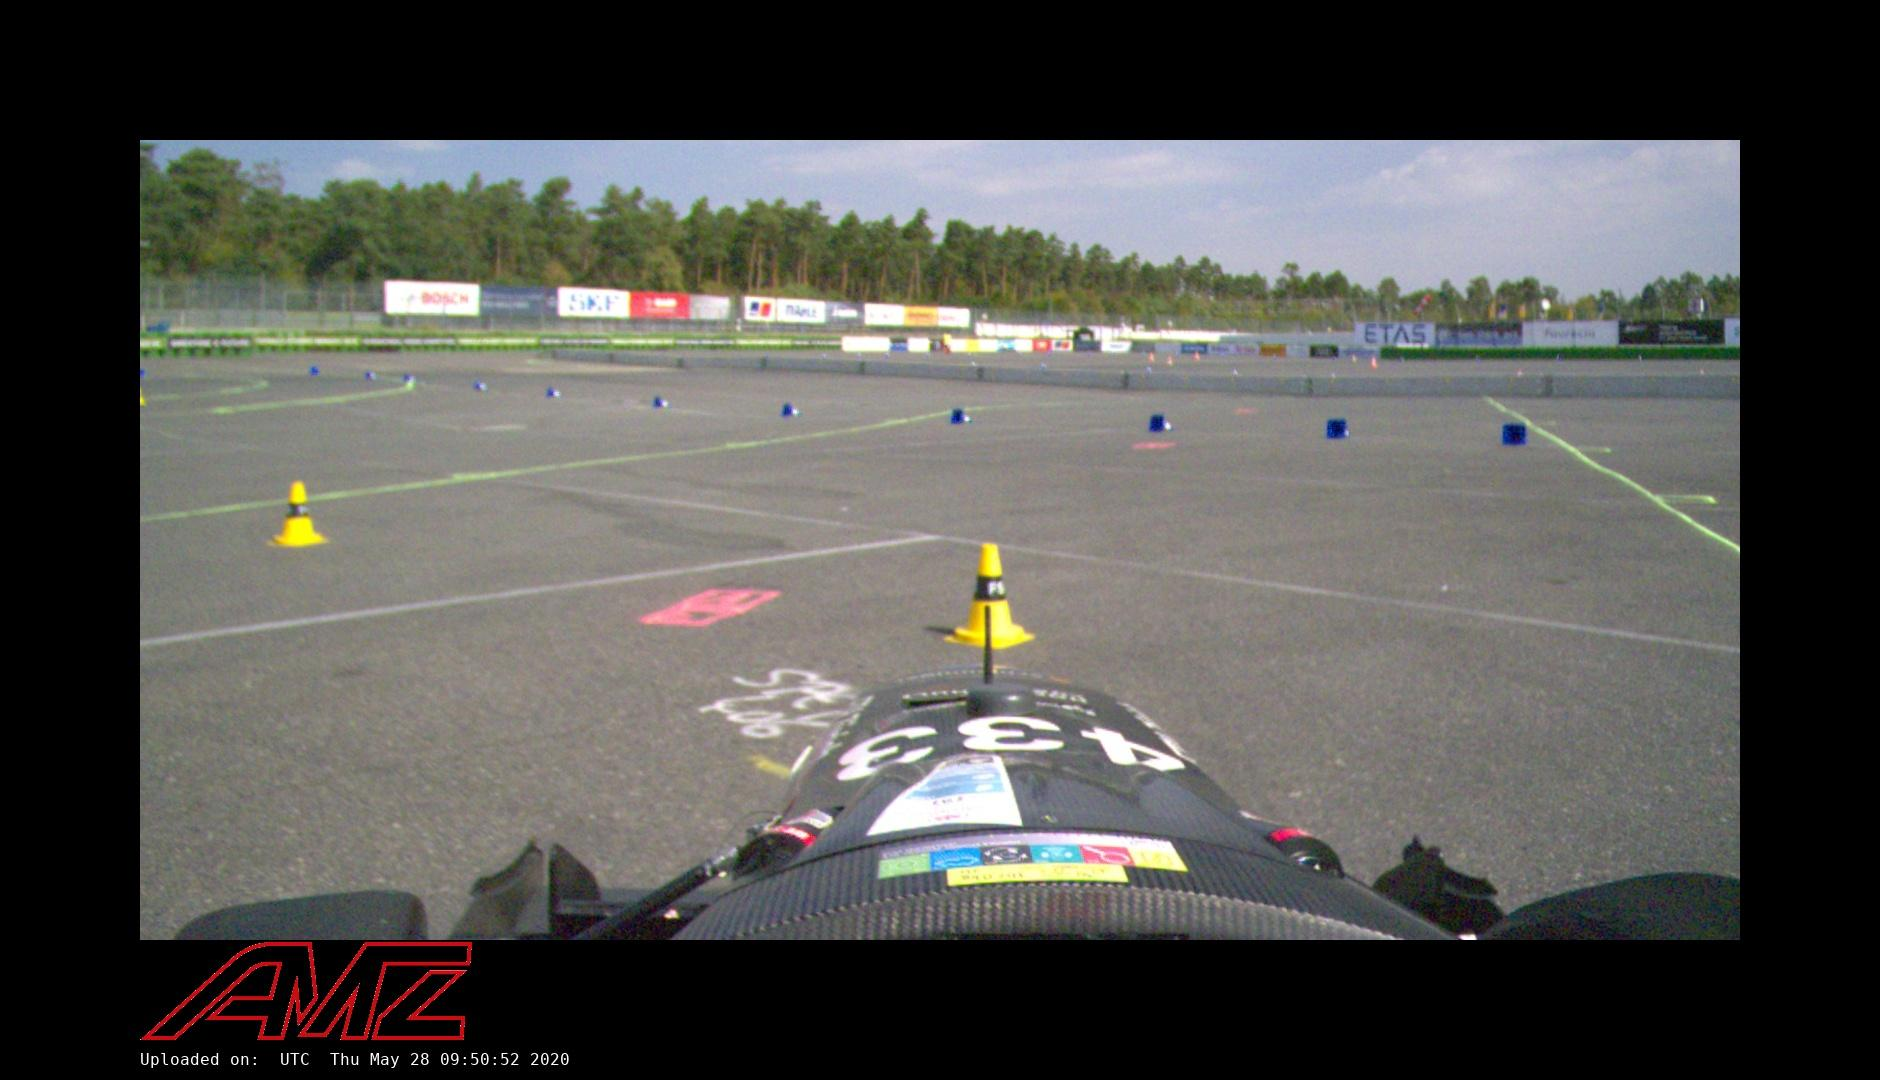blue_cone: (1323, 419, 1352, 441), (1147, 413, 1176, 433), (949, 408, 974, 425), (780, 402, 803, 416), (652, 395, 671, 410), (545, 386, 564, 398)
yellow_cone: (943, 543, 1037, 650), (267, 481, 329, 549)
